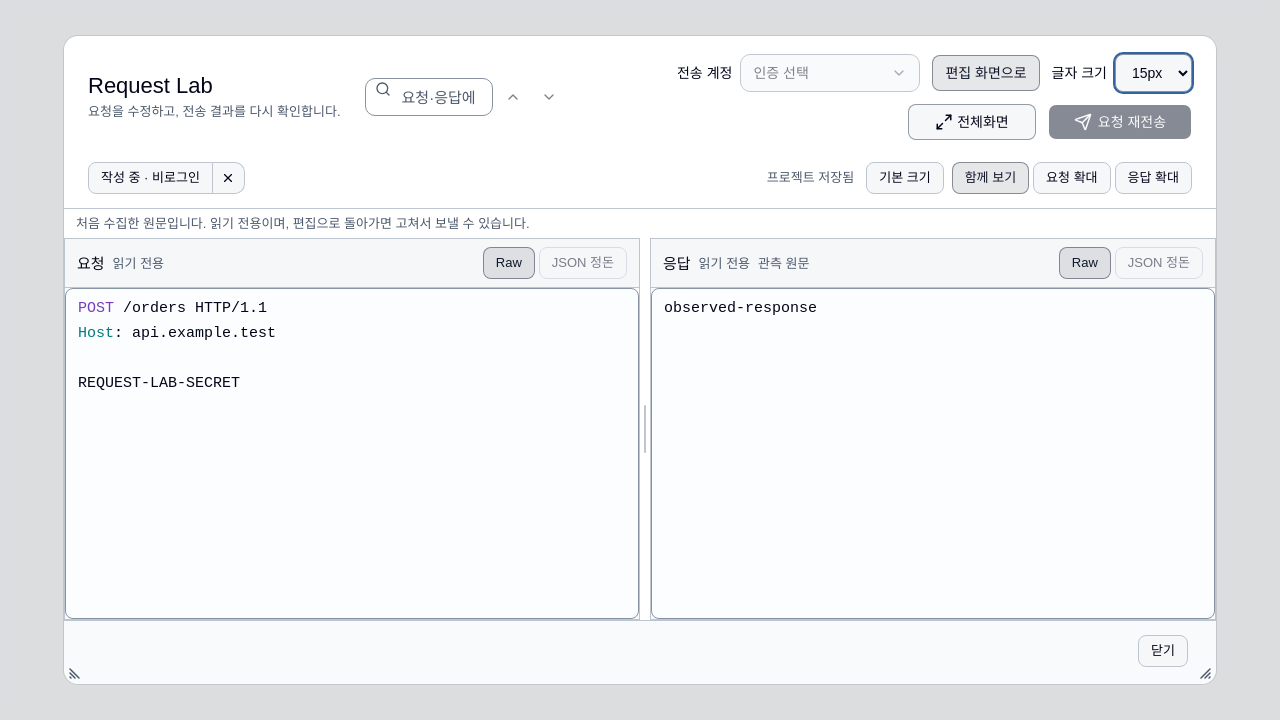
RequestLabDialog › shows the captured response even when a saved draft tab was selected
Expected: the text box named "Request Lab 응답 원문" holds "observed-response", left=651, top=288, right=1215, bottom=619
Click the button "편집 화면으로": (986, 73) left=932, top=55, right=1040, bottom=91
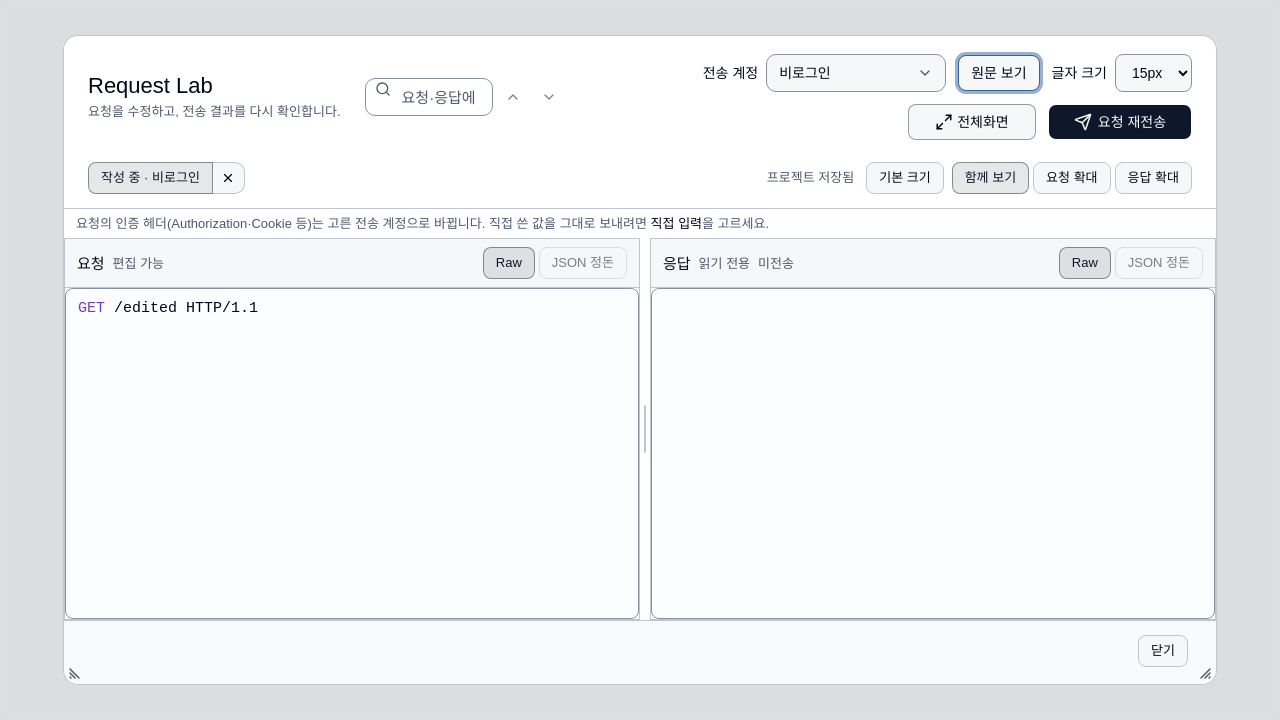
Expected: the text box named "Request Lab 요청 원문" holds "GET /edited HTTP/1.1", left=65, top=288, right=639, bottom=619
